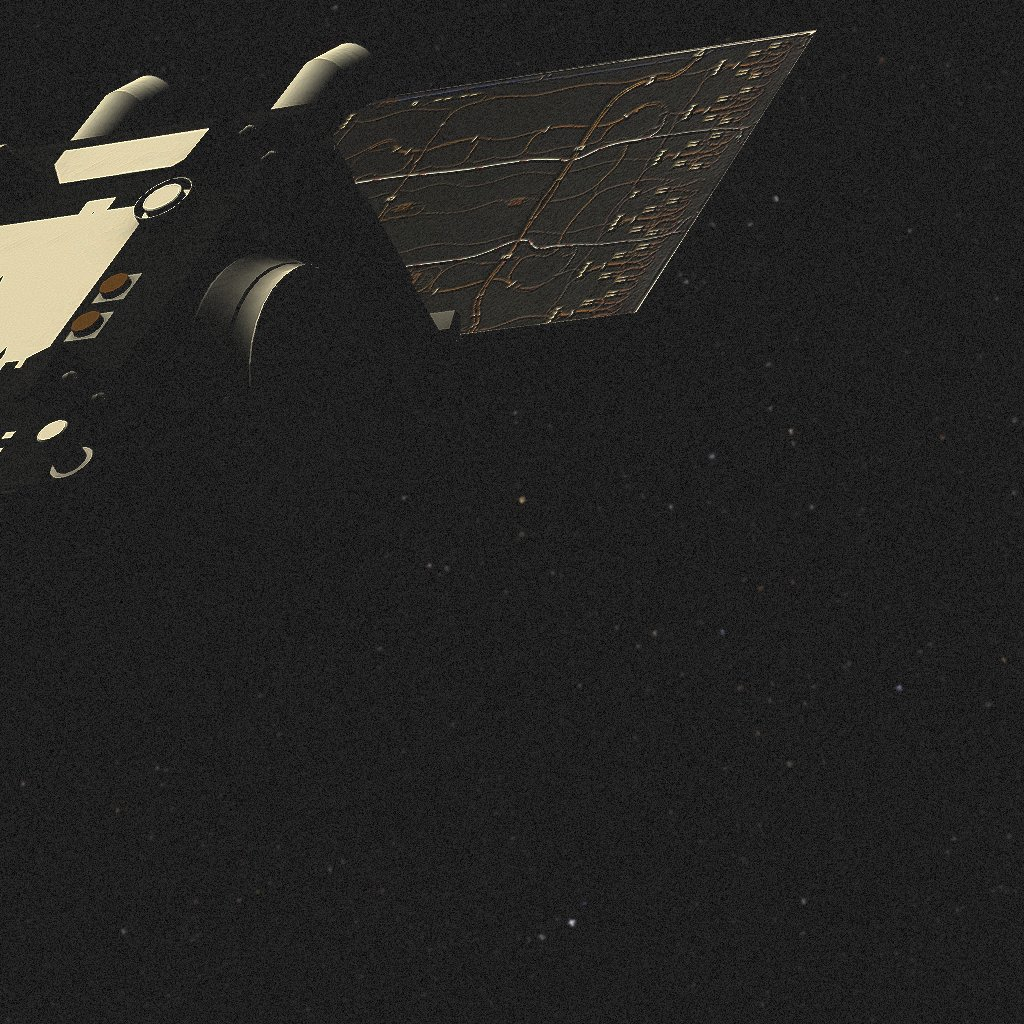proba_3_csc: (0, 30, 820, 779)
